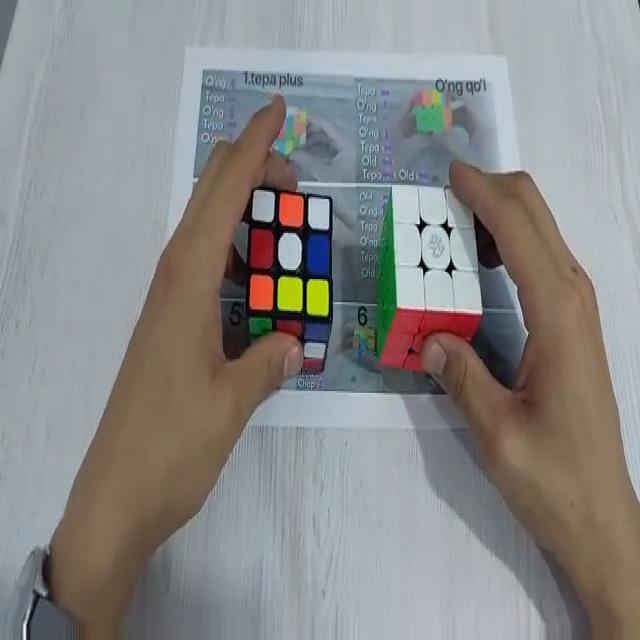Rub: (375, 182, 483, 376), (246, 184, 334, 373)
